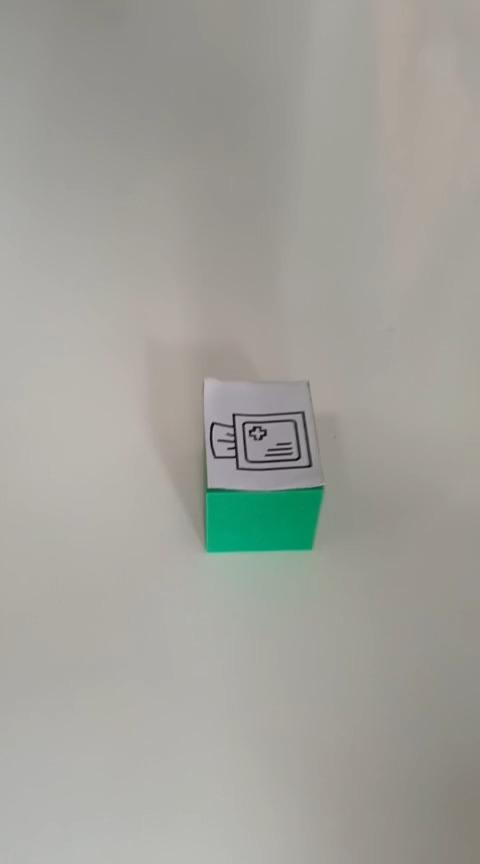Gauze: (201, 376, 326, 553)
